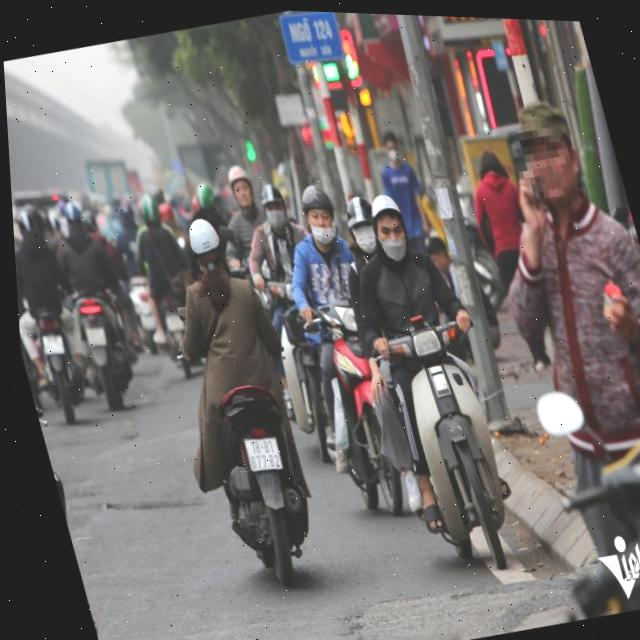motorcycle: (338, 280, 564, 605), (271, 277, 428, 536), (184, 366, 338, 601), (515, 381, 640, 619), (55, 281, 150, 423), (122, 260, 209, 390), (17, 294, 100, 429)
plate: (236, 427, 292, 480), (34, 326, 72, 363), (77, 318, 114, 354), (628, 538, 640, 601)
